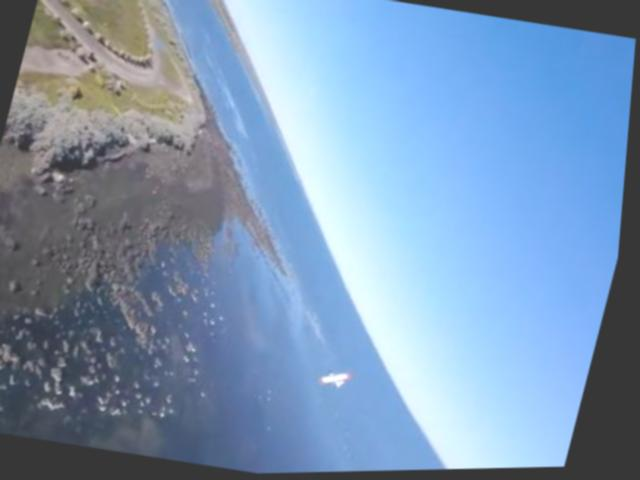uav: (321, 367, 360, 394)
